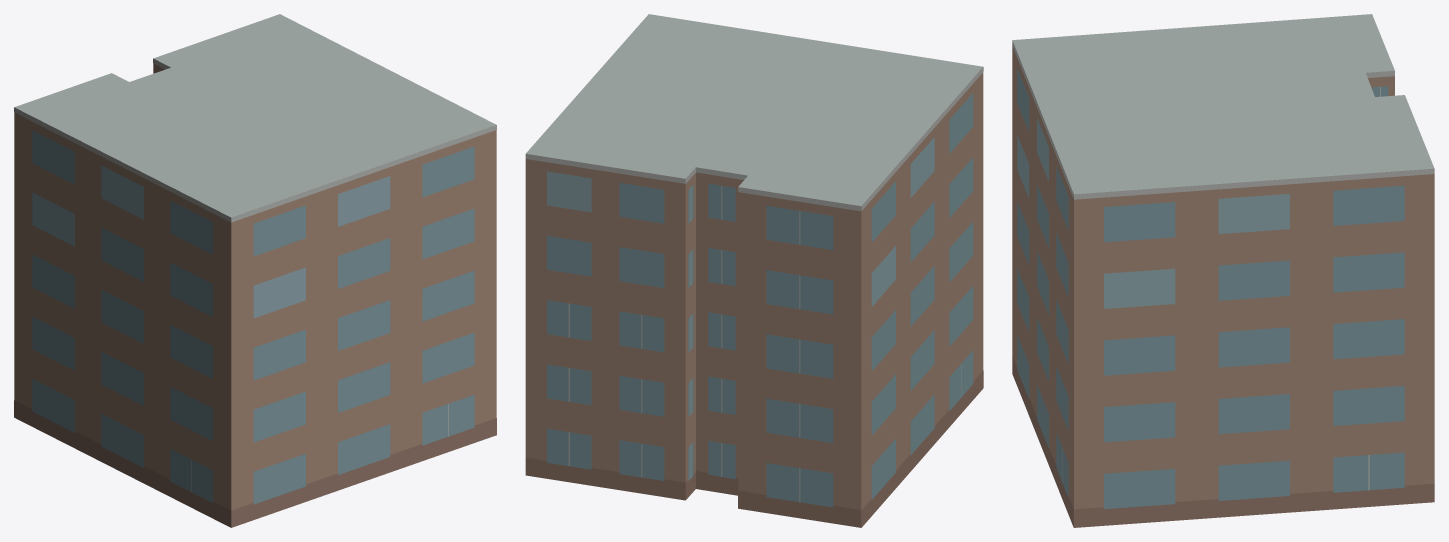
The model's file is survey-upis-32684554.glb.
The picture shows the model from 3 angles, left to right: view 1: azimuth 30°, elevation 25°; view 2: azimuth 150°, elevation 25°; view 3: azimuth 270°, elevation 25°; orthographic projection. The views are drawn at different scales.
Visible parts, largest first — view 1: survey-upis-32684554.tmp; view 2: survey-upis-32684554.tmp; view 3: survey-upis-32684554.tmp.
Boxes of the visible parts, left/top/right/bottom form: survey-upis-32684554.tmp: left=14, top=14, right=496, bottom=527; survey-upis-32684554.tmp: left=525, top=14, right=983, bottom=527; survey-upis-32684554.tmp: left=1012, top=14, right=1434, bottom=527.
Size of the model in its own units: 17.7 by 15.25 by 17.51.
